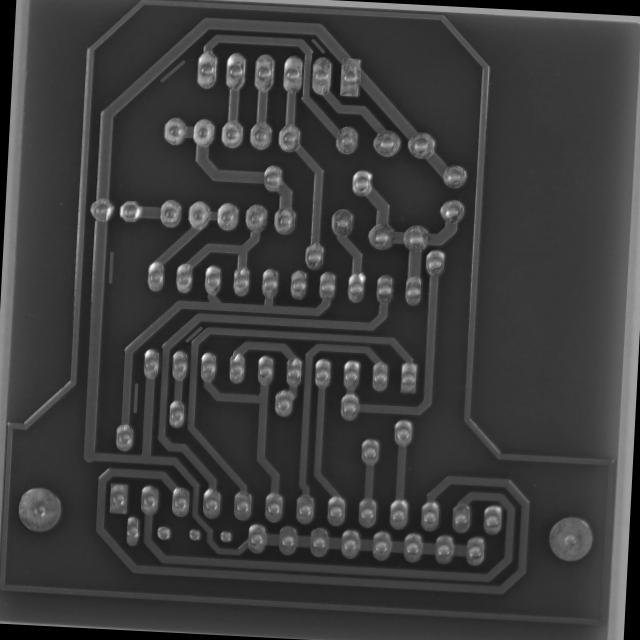spurious_copper: (149, 56, 193, 90), (100, 246, 122, 288), (125, 378, 144, 418), (180, 320, 206, 345), (304, 34, 328, 59)
